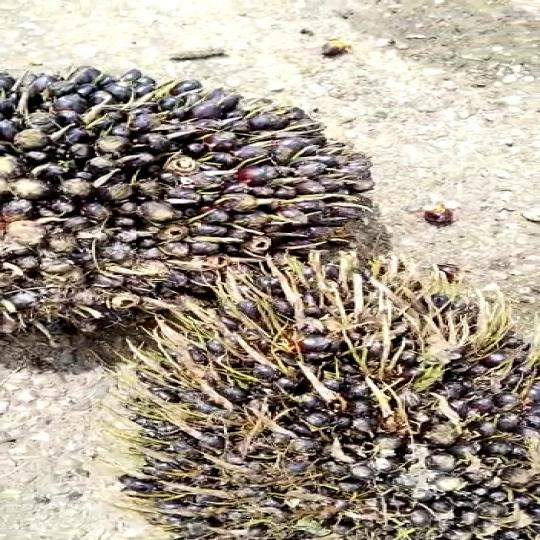mentah: (109, 221, 540, 540), (1, 63, 365, 348)
